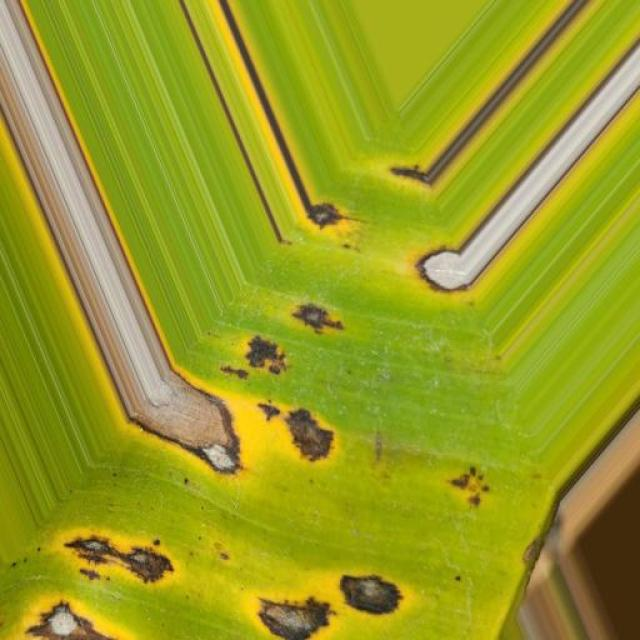Early_rust: (4, 129, 532, 640)
